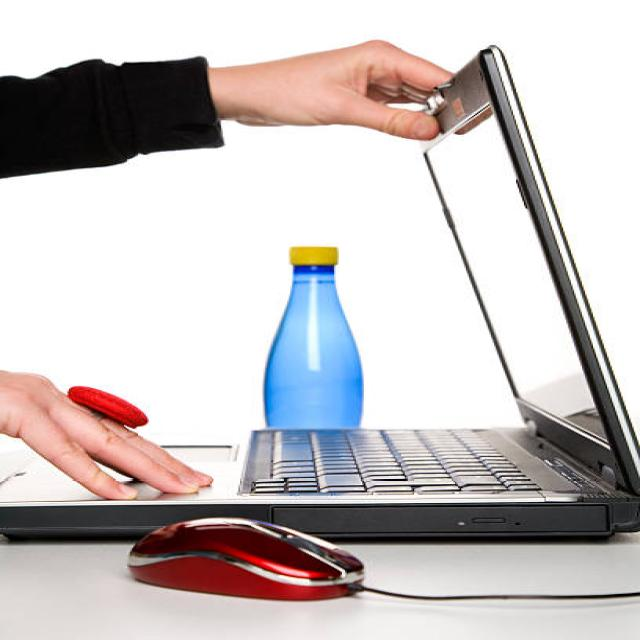blue_bottle: (261, 242, 371, 430)
